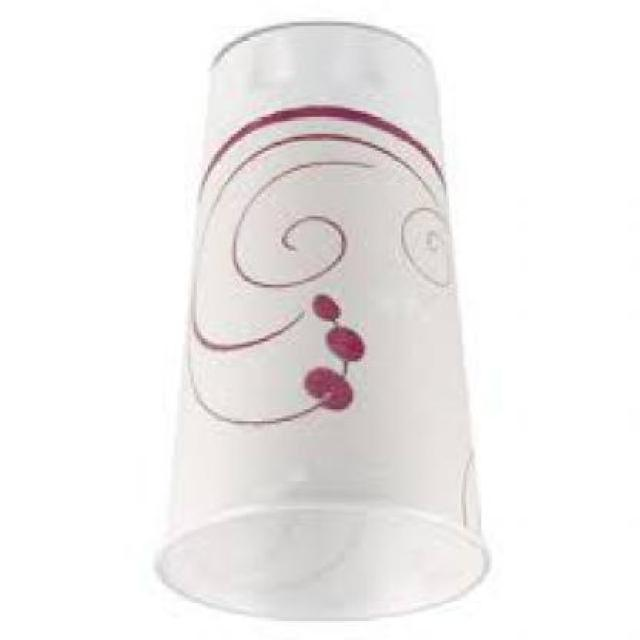PAPER: (159, 25, 495, 626)
